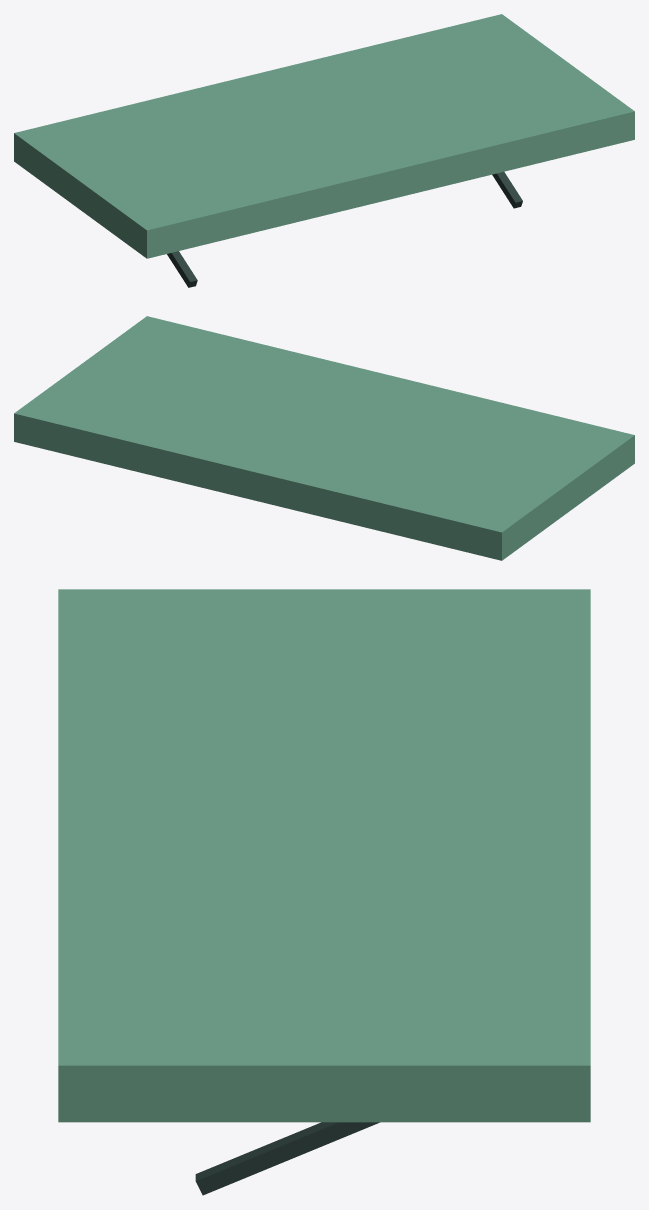
File: EntranceCanopy.obj
3 views of the same model, one above another, from view 1: azimuth 30°, elevation 25°; view 2: azimuth 150°, elevation 25°; view 3: azimuth 270°, elevation 25° (orthographic). The views are drawn at different scales.
Parts seen in each view (by area): view 1: EntranceCanopy; view 2: EntranceCanopy; view 3: EntranceCanopy.
Part boxes in pixels (<box>): EntranceCanopy: <box>14,14,634,287</box>; EntranceCanopy: <box>14,316,634,560</box>; EntranceCanopy: <box>58,589,590,1195</box>.
Size of the model in its own units: 3.6 by 0.725 by 1.7.
1 material, 1 textured.
